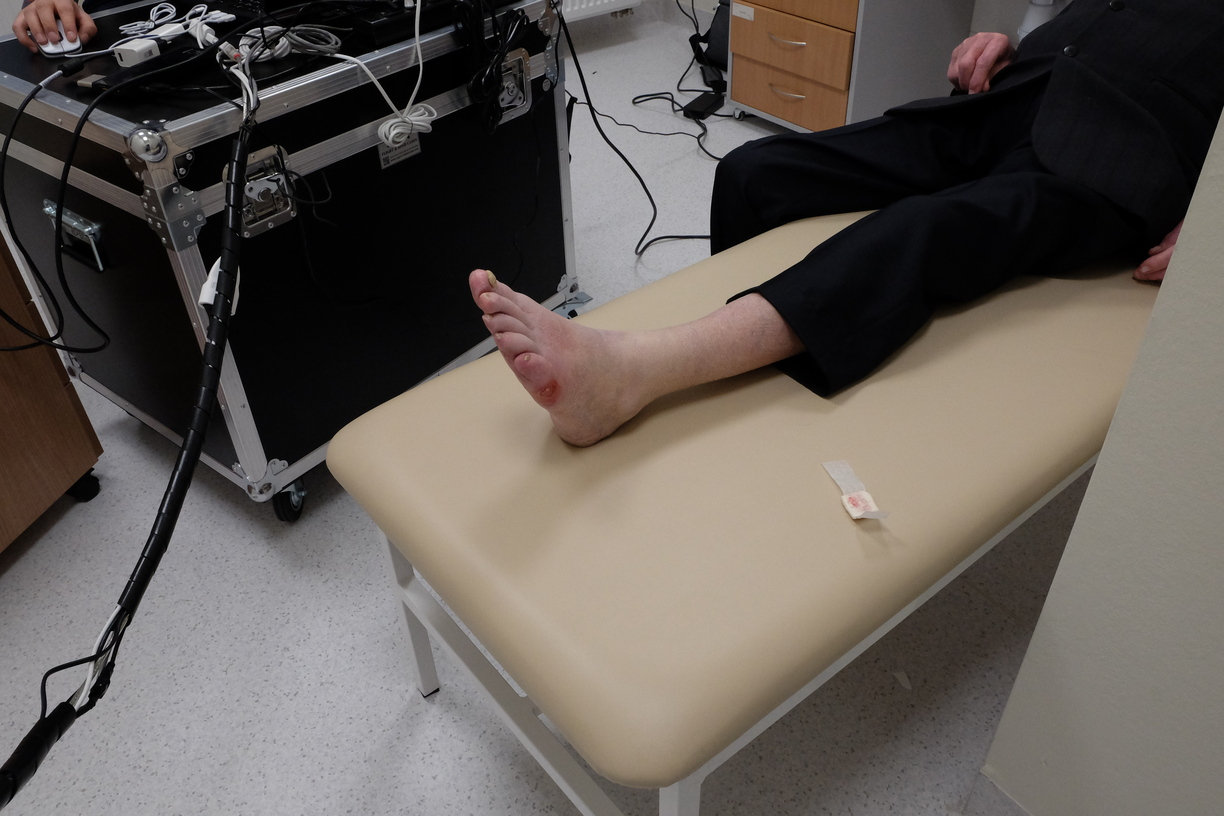wound: (535, 374, 563, 404)
